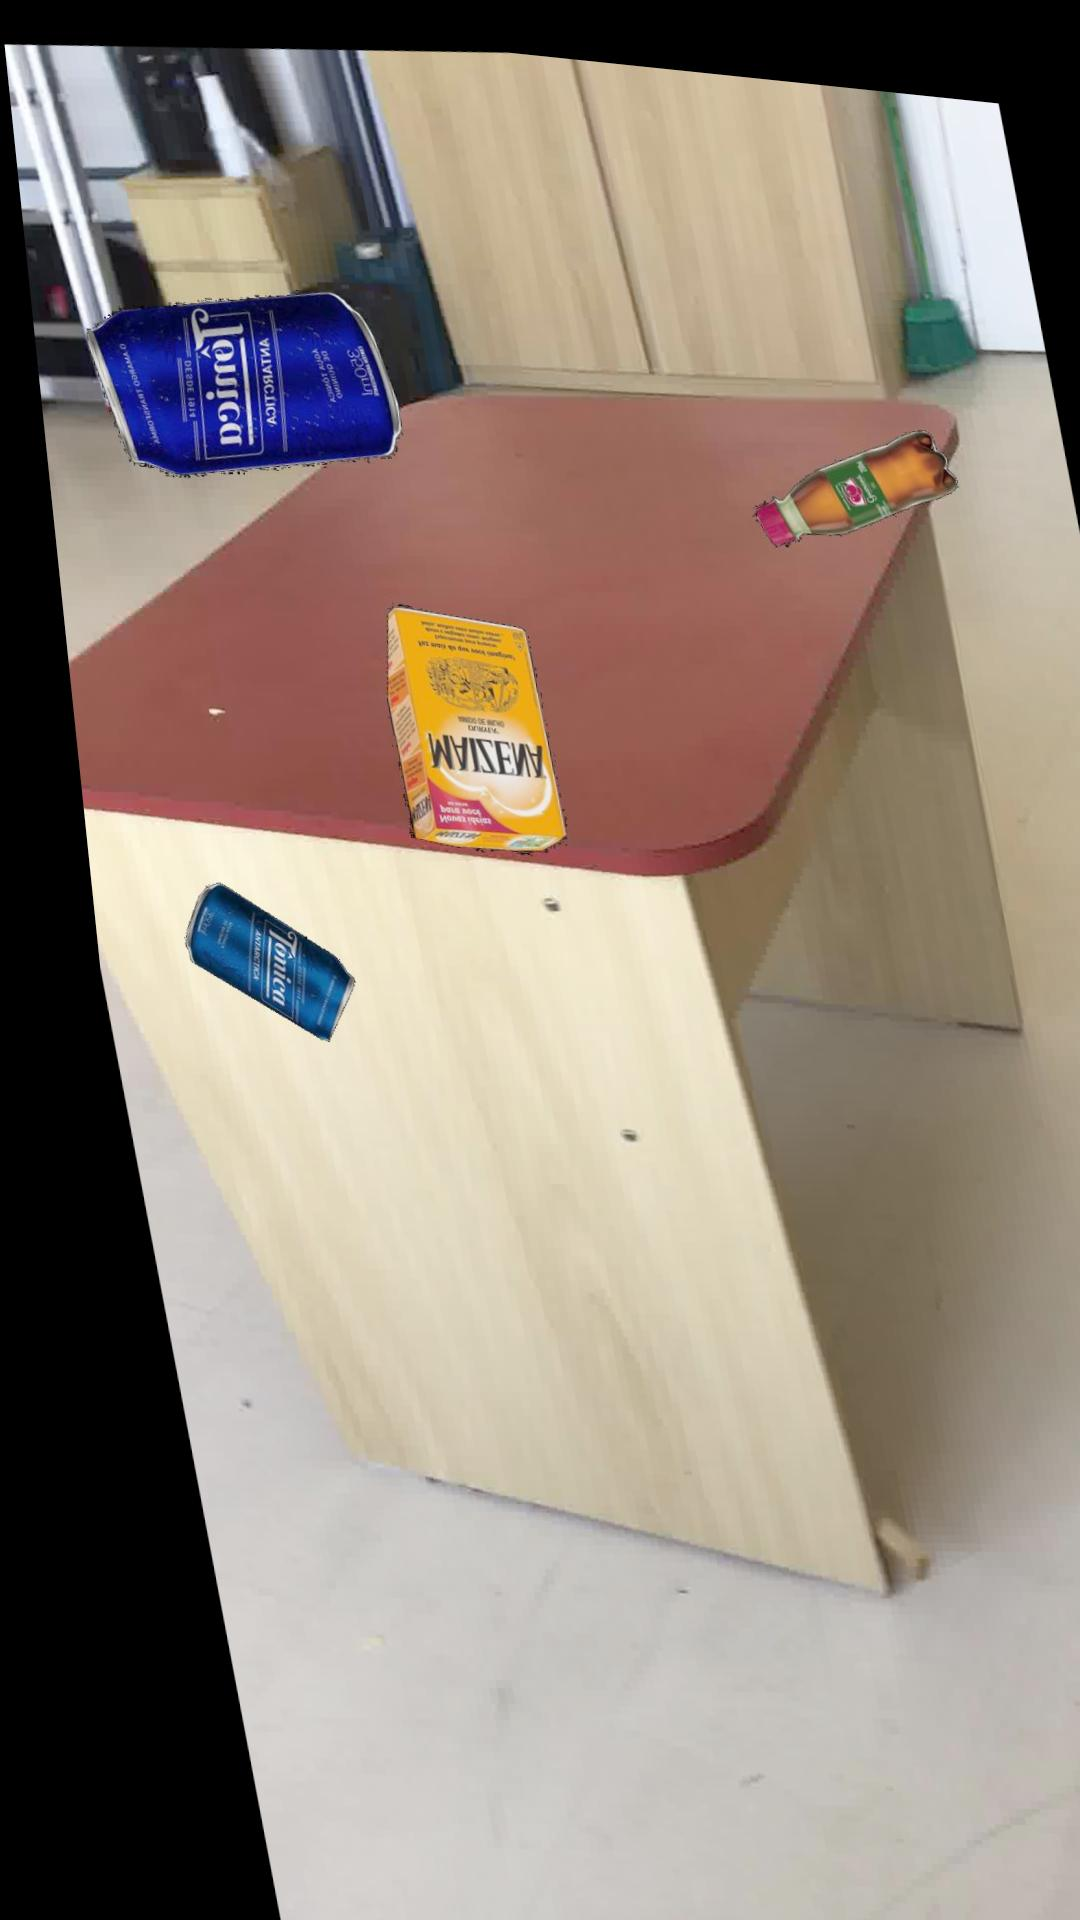guarana: (741, 409, 945, 529)
tonic: (76, 282, 390, 472), (161, 877, 331, 1035)
